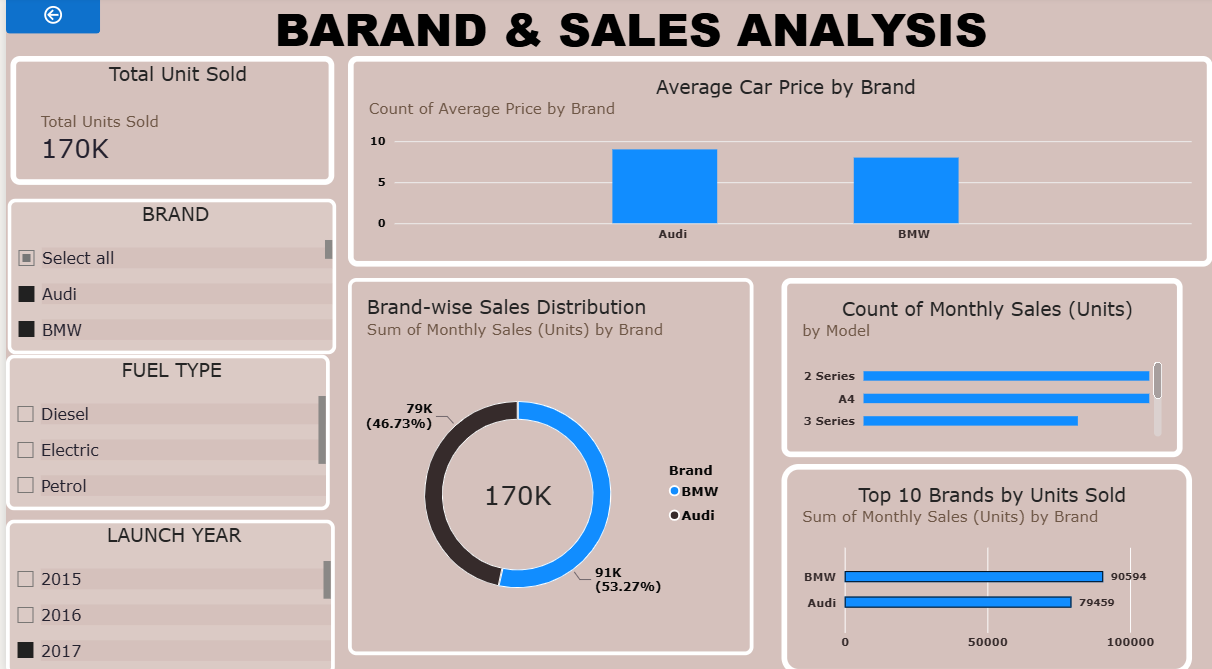

Layout of this report page (visuals, bound fields, positions):
{"tool":"powerbi","page":{"name":"Brand & Model Analysis","canvas":[1280,720],"ordinal":1},"visuals":[{"type":"textbox","box":[27.4,0,1229.5,75.5],"z":0},{"type":"actionButton","box":[0,0,100,40],"z":1000},{"type":"clusteredBarChart","title":"Top 10 Brands by Units Sold","fields":{"Category":["Sheet1.Brand"],"Y":["Sum(Sheet1.Monthly Sales (Units))"]},"box":[821.7,496.7,435,223.3],"z":2000},{"type":"cardVisual","title":"Total Unit Sold","fields":{"Data":["Sheet1.Total Units Sold"]},"box":[5,63.3,343.3,136.7],"z":3000},{"type":"clusteredBarChart","fields":{"Category":["Sheet1.Model"],"Y":["Count(Sheet1.Monthly Sales (Units))"]},"box":[821.7,298.3,425,190],"z":4000},{"type":"donutChart","title":"Brand-wise Sales Distribution","fields":{"Category":["Sheet1.Brand"],"Y":["Sum(Sheet1.Monthly Sales (Units))"]},"box":[363.3,298.3,430,400],"z":7000},{"type":"clusteredColumnChart","title":"Average Car Price by Brand","fields":{"Category":["Sheet1.Brand"],"Y":["CountNonNull(Sheet1.Average Price)"]},"box":[363.3,63.3,916.7,223.3],"z":8000},{"type":"slicer","title":"BRAND","fields":{"Values":["Sheet1.Brand"]},"box":[1.7,215,348.3,165],"z":9000},{"type":"slicer","title":"FUEL TYPE","fields":{"Values":["Sheet1.Fuel Type"]},"box":[0,380,343.3,165],"z":10000},{"type":"slicer","title":"LAUNCH  YEAR","fields":{"Values":["Sheet1.Launch Year"]},"box":[0,555,348.3,165],"z":11000}]}

Visuals, with their boxes in screenshot pixels (x1, y1, x2, y2), scaled from the page's 1280x720 canvas onto the 1212x669 screenshot:
textbox: detection(26, 0, 1190, 70)
actionButton: detection(0, 0, 95, 37)
"Top 10 Brands by Units Sold" clusteredBarChart: detection(778, 462, 1190, 668)
"Total Unit Sold" cardVisual: detection(5, 59, 330, 186)
clusteredBarChart - Sheet1.Model x Count(Sheet1.Monthly Sales (Units)): detection(778, 277, 1180, 454)
"Brand-wise Sales Distribution" donutChart: detection(344, 277, 751, 649)
"Average Car Price by Brand" clusteredColumnChart: detection(344, 59, 1211, 266)
"BRAND" slicer: detection(2, 200, 331, 353)
"FUEL TYPE" slicer: detection(0, 353, 325, 506)
"LAUNCH  YEAR" slicer: detection(0, 516, 330, 668)
